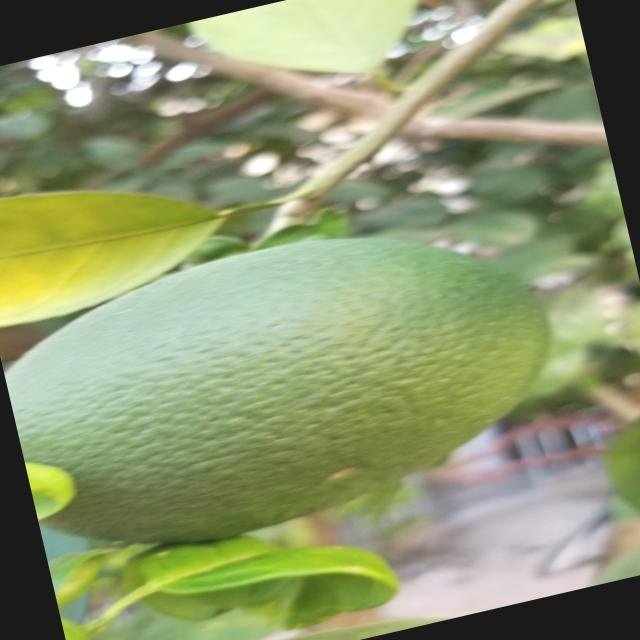agrume: (0, 184, 586, 592)
